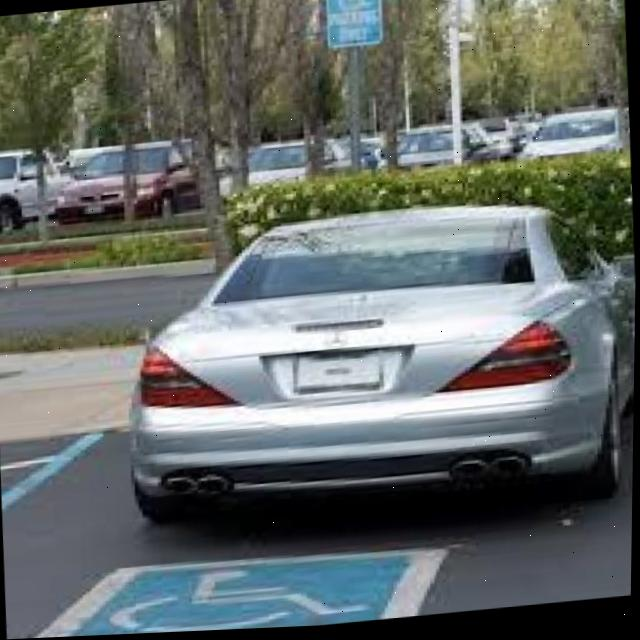symbol_of_access: (114, 551, 379, 636), (336, 0, 375, 13)
